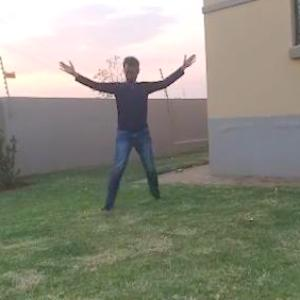takeoff: (38, 31, 188, 205)
